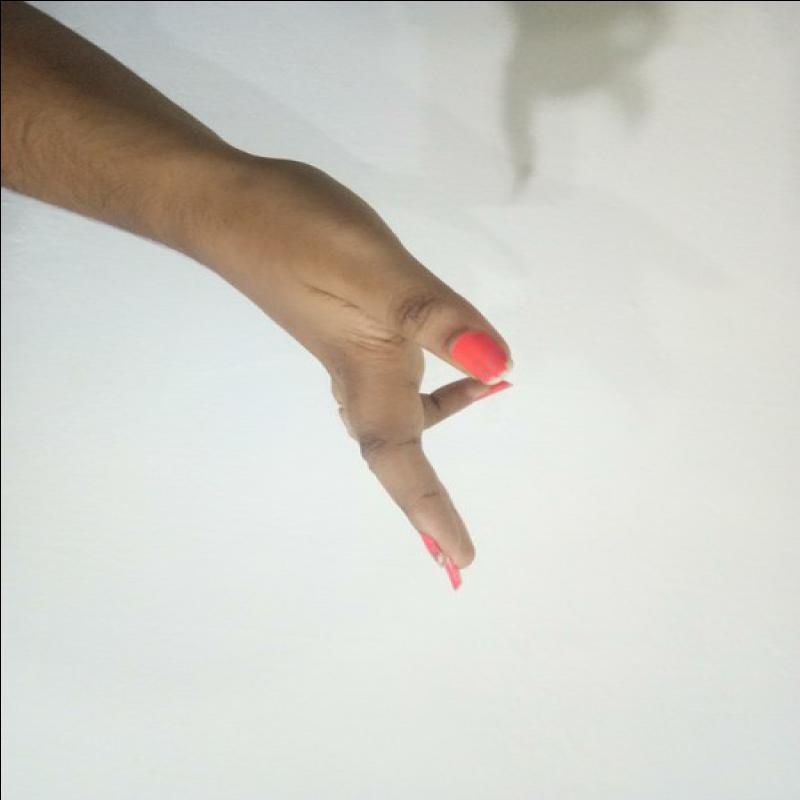Pathaaka: (221, 145, 531, 602)
